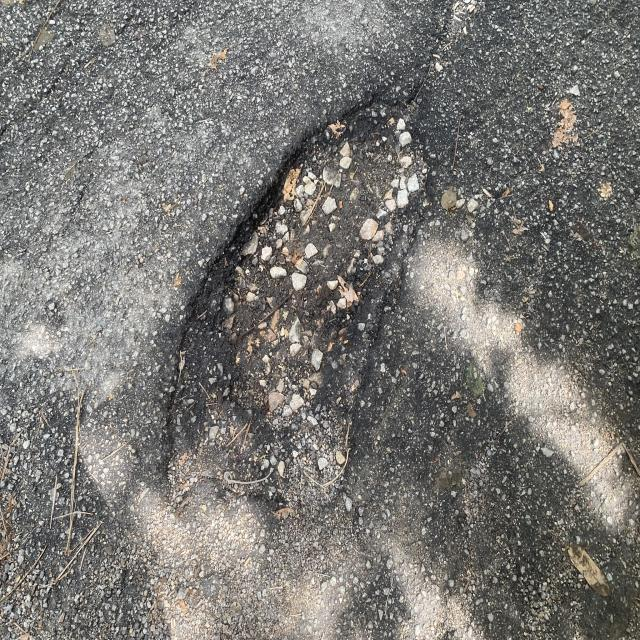Pothole: (130, 16, 514, 554)
